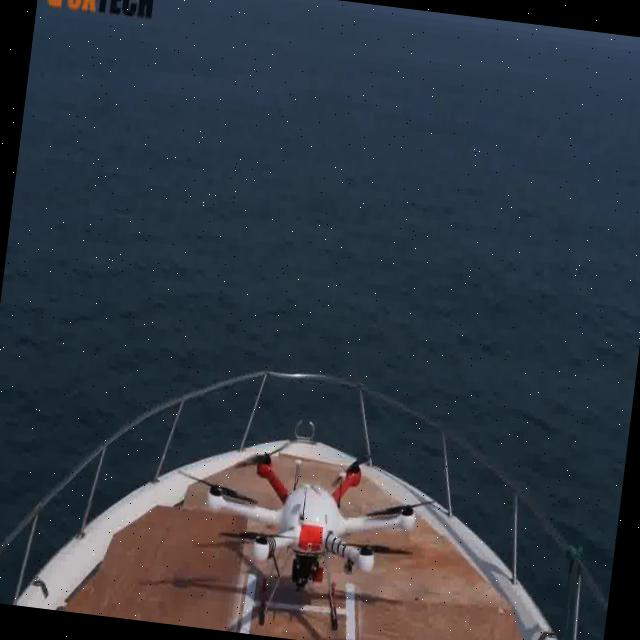drone: (183, 422, 429, 640)
